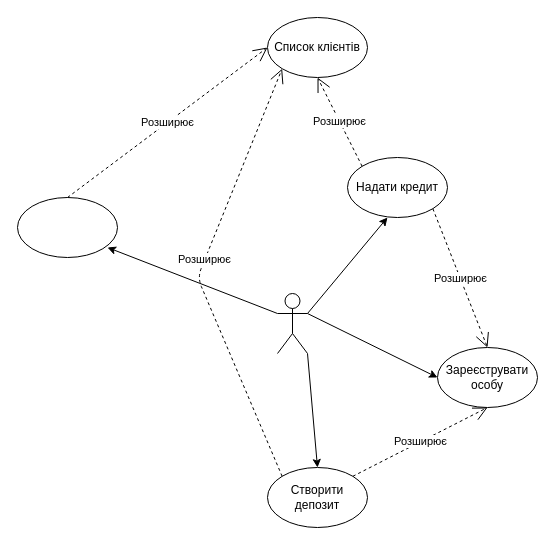
This 555x545 diagram has some shape labels left out. The centre of each missing label's shape, as x and y in pixels:
"Користувач" goes at (292,323).
"Перевірити кредит/депозит" goes at (67,227).
